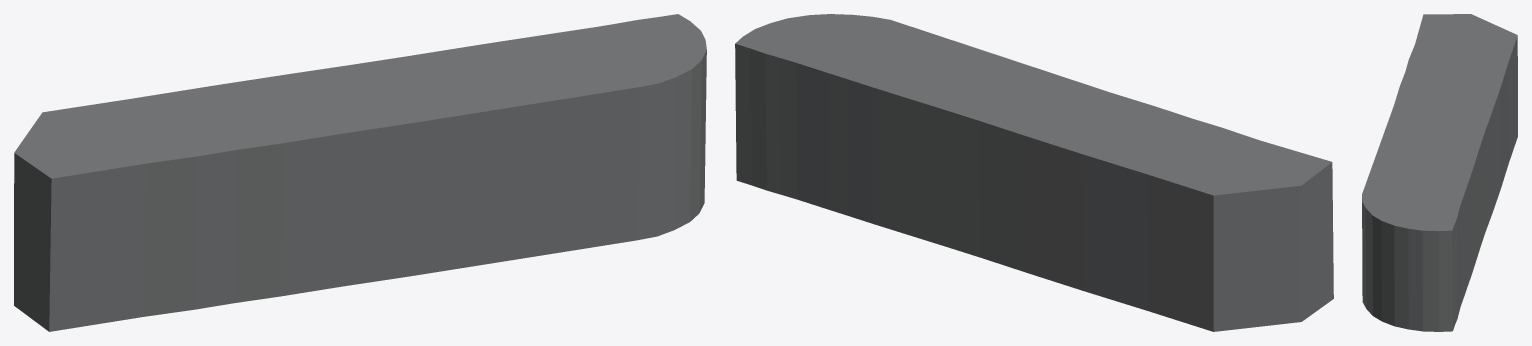
3 views of the same model, side by side, from view 1: azimuth 30°, elevation 25°; view 2: azimuth 150°, elevation 25°; view 3: azimuth 270°, elevation 25° (orthographic). The views are drawn at different scales.
Visible parts, largest first — view 1: 8_3; view 2: 8_3; view 3: 8_3.
Boxes of the visible parts, x1,y1,x2,y2 form: 8_3: (14, 14, 706, 331); 8_3: (735, 14, 1333, 331); 8_3: (1362, 14, 1517, 331).
Size of the model in its own units: 0.0507 by 0.0121 by 0.0158.
Materials: 1 (1 with a texture image).
